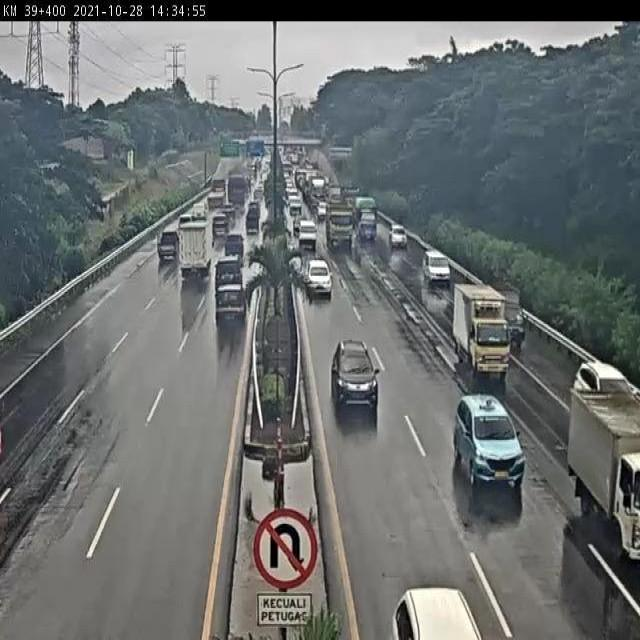big truck: (323, 198, 357, 258), (354, 187, 388, 241)
car: (450, 383, 529, 497), (390, 581, 494, 640), (329, 332, 380, 417), (209, 275, 252, 329), (299, 253, 336, 307), (422, 240, 455, 291), (155, 218, 183, 266), (214, 252, 246, 293), (293, 217, 321, 251), (221, 227, 248, 261), (387, 222, 414, 250)
small truck: (565, 350, 640, 574), (451, 276, 513, 377), (175, 216, 216, 277), (499, 278, 534, 346)
